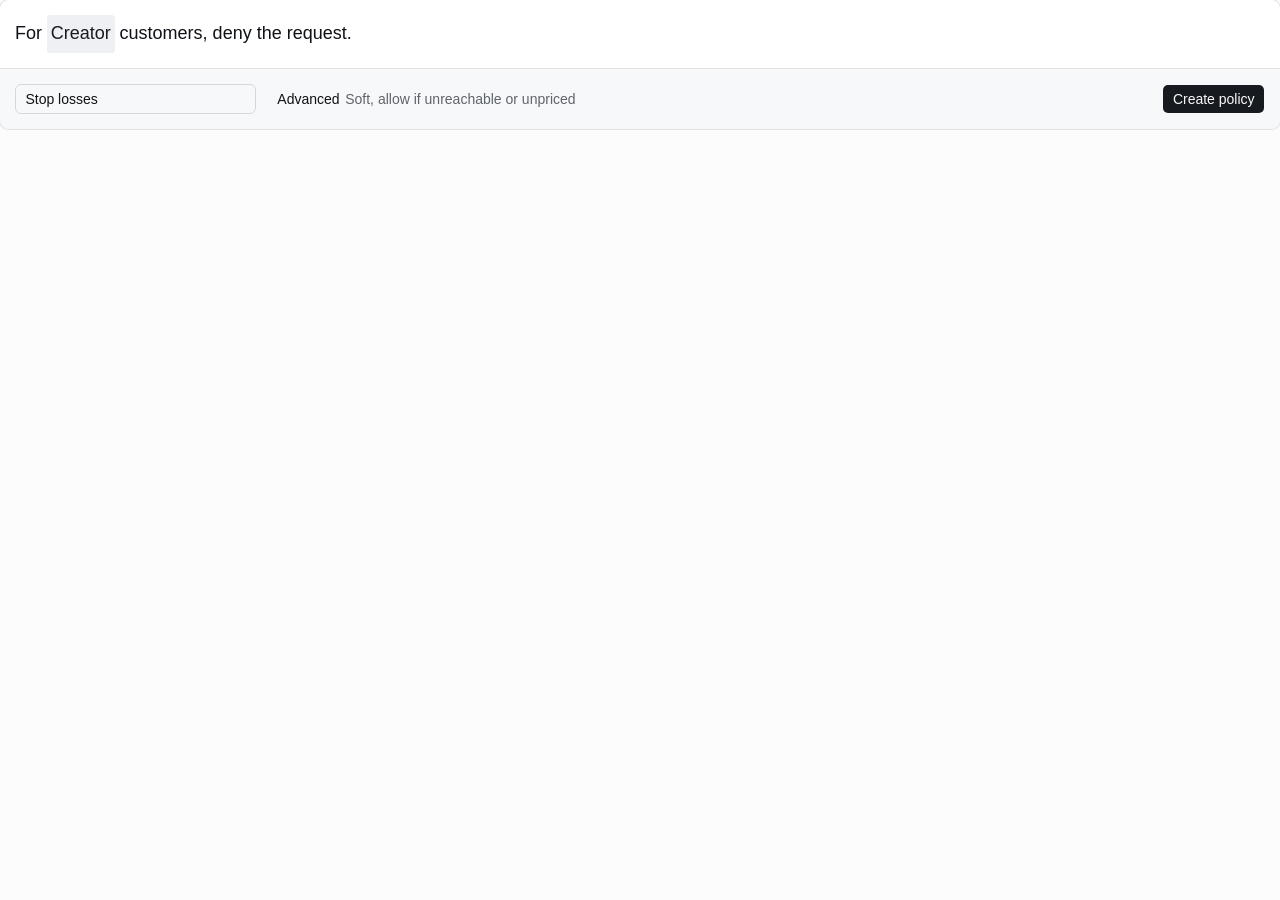
it: opening a blank never submits
Click the button "Creator". click: (81, 34)
box: x1=47 y1=15 x2=114 y2=53
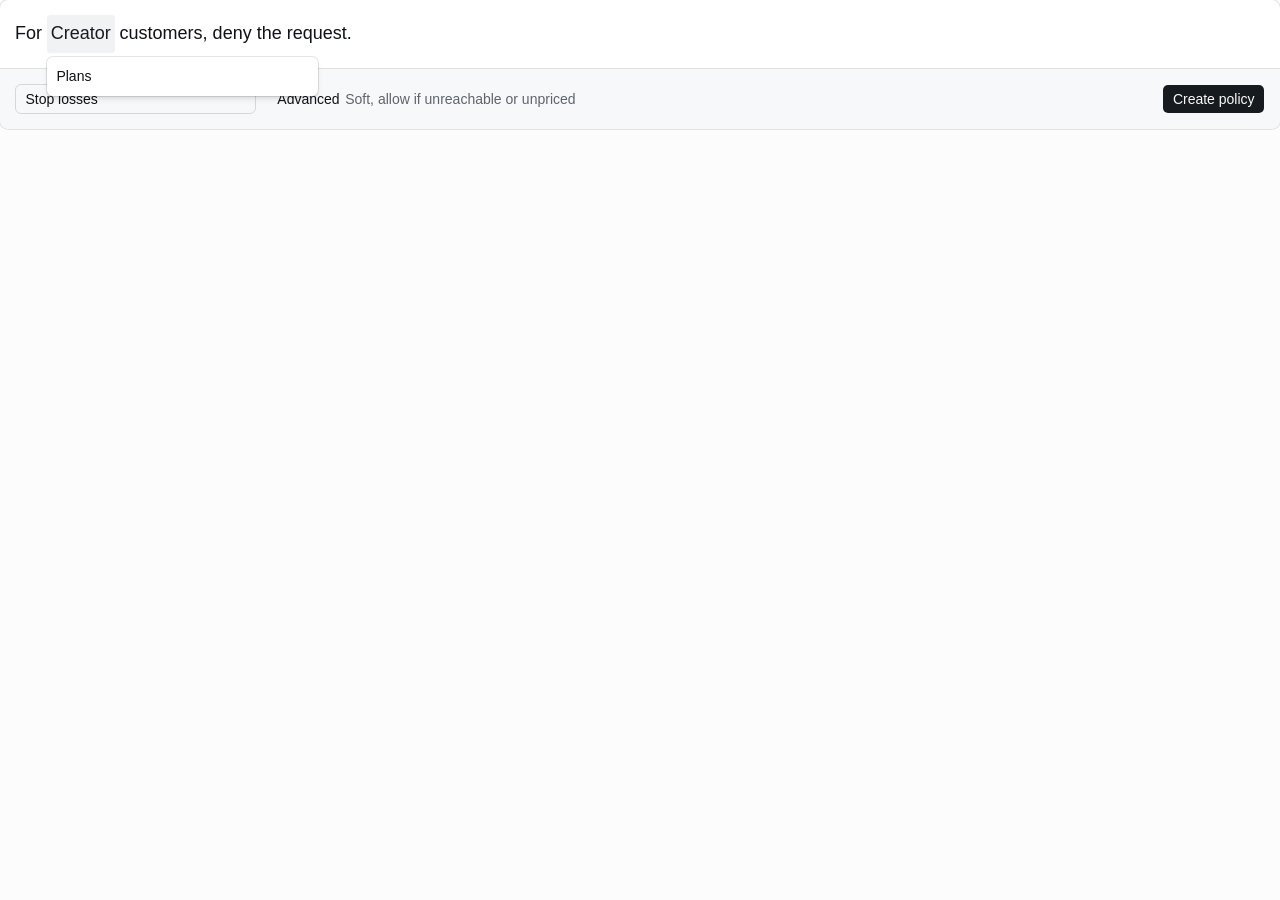
Check: the dialog reads "Plans", box x1=56 y1=68 x2=91 y2=84
